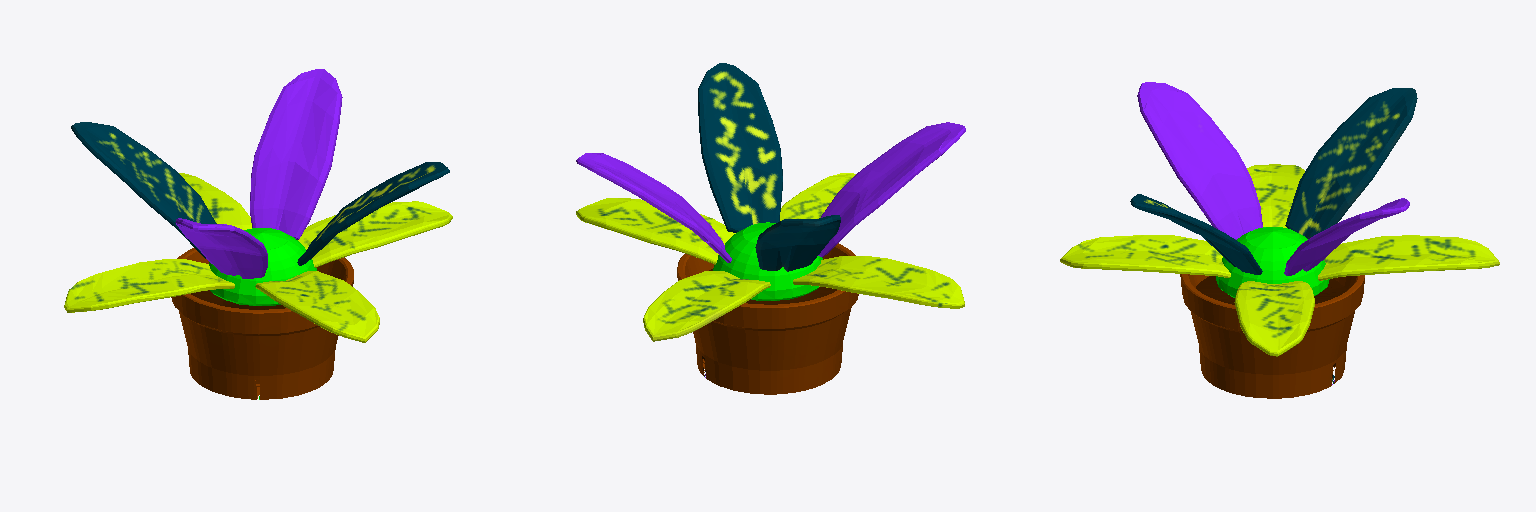
The picture shows the model from 3 angles: view 1: azimuth 30°, elevation 25°; view 2: azimuth 150°, elevation 25°; view 3: azimuth 270°, elevation 25°; orthographic projection.
Visible parts, largest first — view 1: polySurface1; view 2: polySurface1; view 3: polySurface1.
Boxes of the visible parts, x1,y1,x2,y2 form: polySurface1: [64, 69, 452, 399]; polySurface1: [576, 63, 965, 394]; polySurface1: [1060, 82, 1499, 398].
Bounding box in the file's own units: 0.9829 × 0.5418 × 0.9702.
Materials: 1 (1 with a texture image).